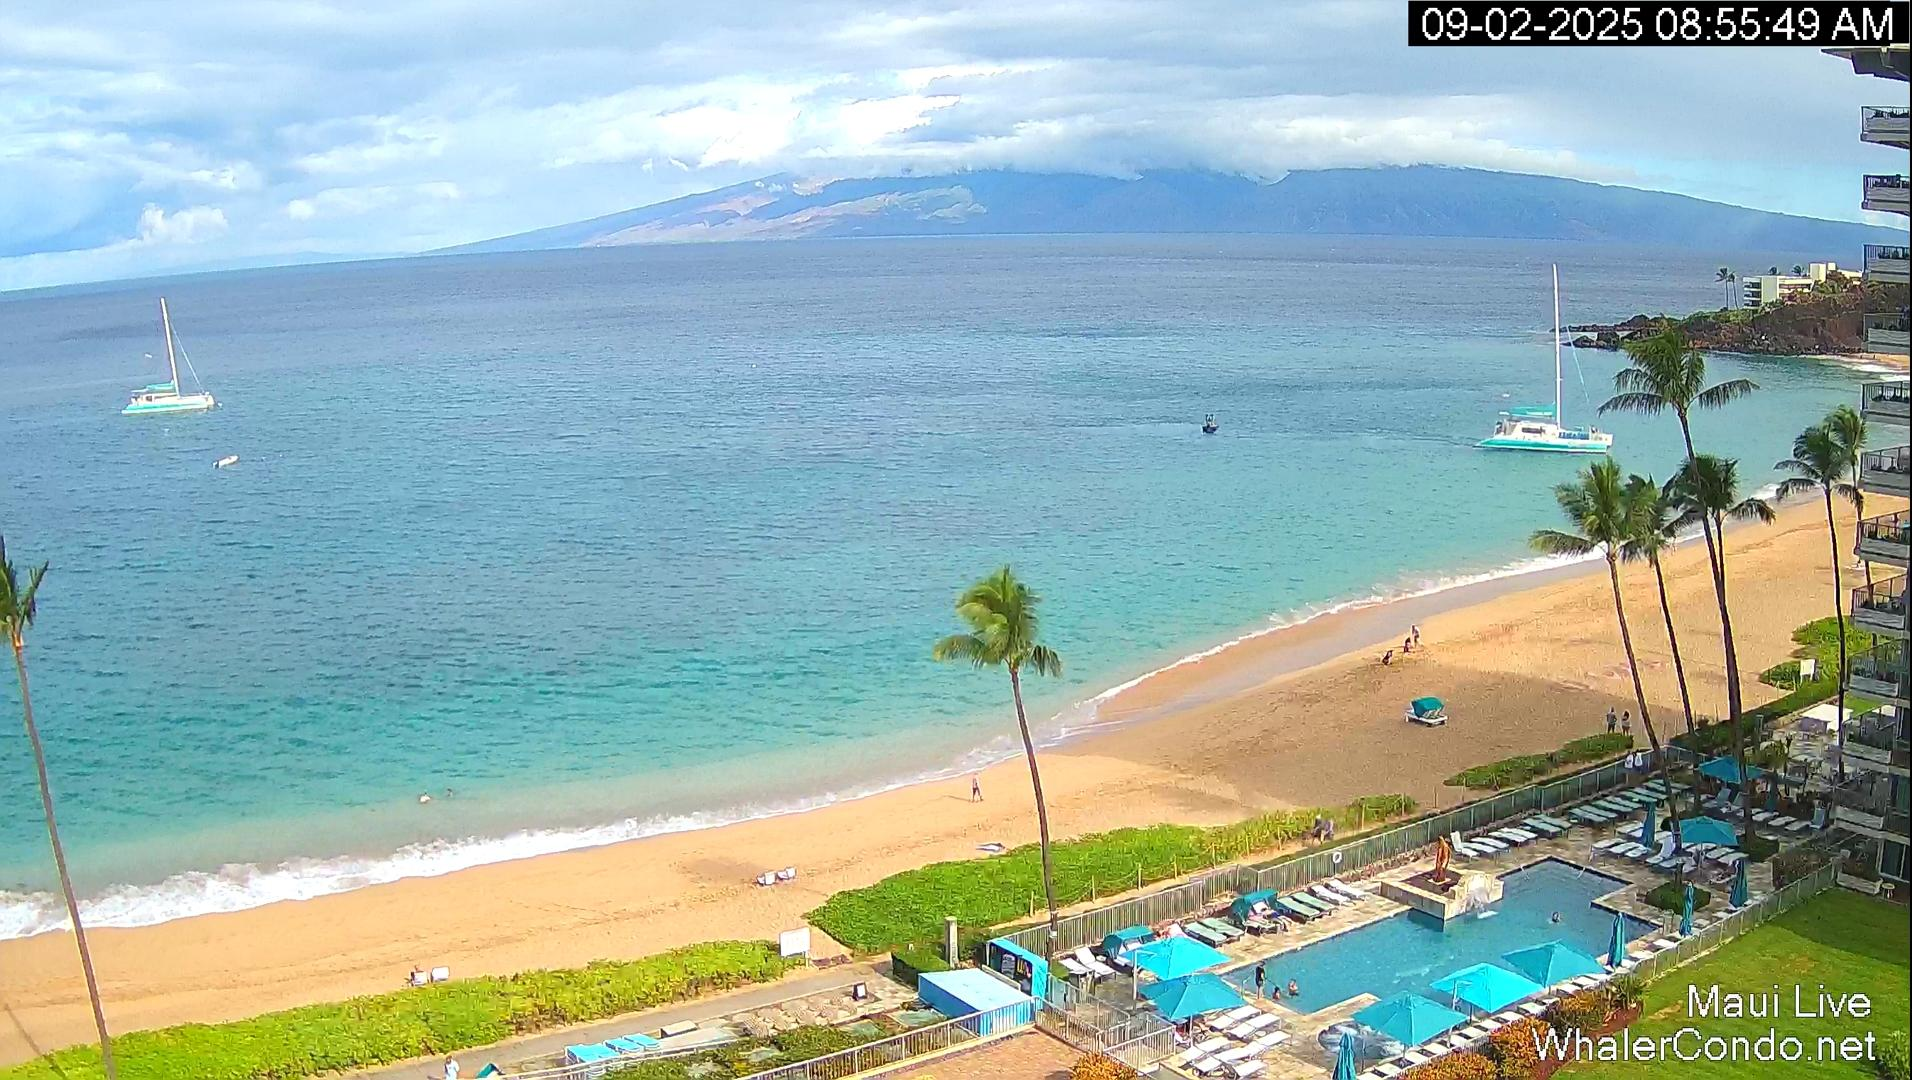boat: (1474, 262, 1614, 454), (121, 296, 216, 416), (1201, 414, 1220, 435), (214, 455, 239, 468)
person: (1171, 1020, 1210, 1038), (1262, 905, 1291, 925), (1254, 965, 1266, 1000), (444, 1054, 460, 1080), (971, 772, 984, 802), (1323, 814, 1336, 844), (1312, 816, 1324, 847), (1606, 707, 1618, 734), (1621, 710, 1632, 737), (1288, 980, 1300, 997), (1382, 650, 1394, 667), (1412, 624, 1420, 648), (418, 791, 432, 803), (1403, 636, 1411, 654), (1550, 910, 1562, 922), (1272, 987, 1281, 1000), (444, 787, 454, 797), (414, 962, 423, 971)
